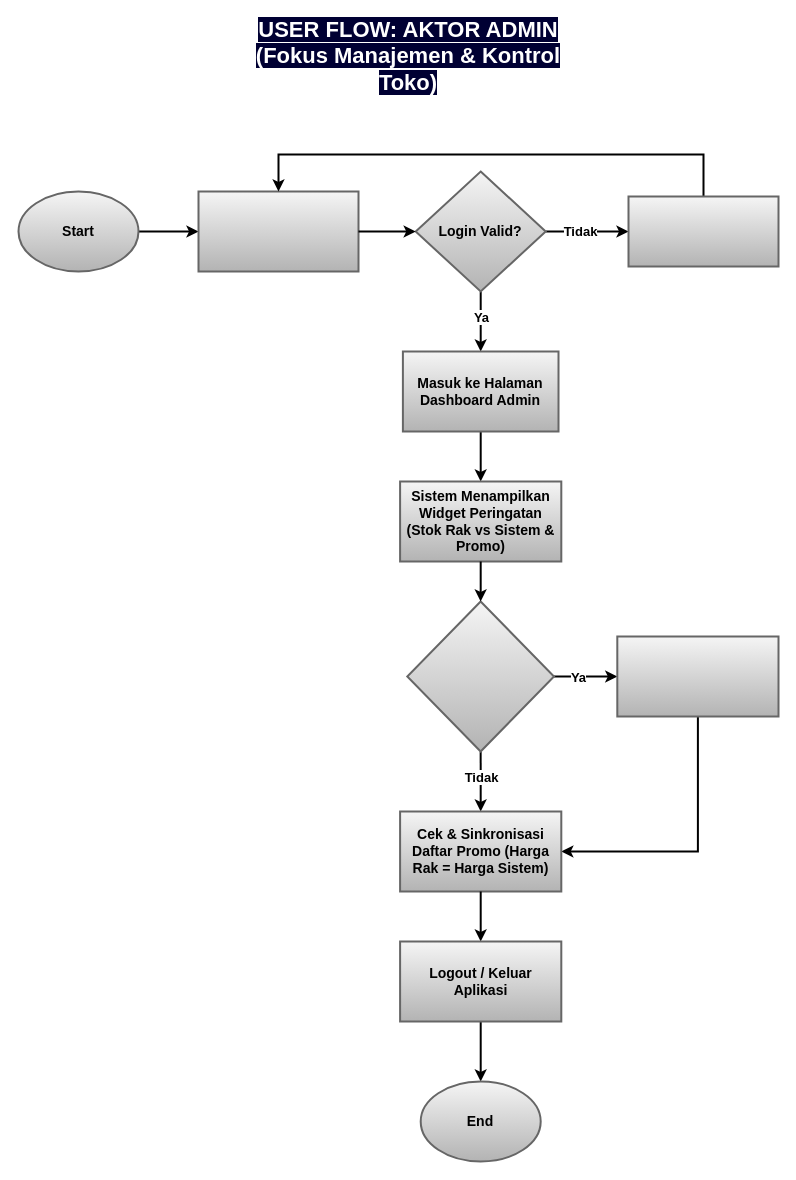
This 796x1180 diagram has some shape labels left out. The shapes that lost their labels are listed below. From the top down, each one's centre as x and y in pixels, then its label:
At (x=278, y=231): "Masukkan Username & Password Admin".
At (x=703, y=231): "Tampilkan Pesan Error & Ulangi Login".
At (x=480, y=676): "Apakah Ada Stok Rak Habis / Menipis?".
At (x=697, y=676): "Instruksikan Pegawai Pindahkan Stok dari Gudang ke Rak".
